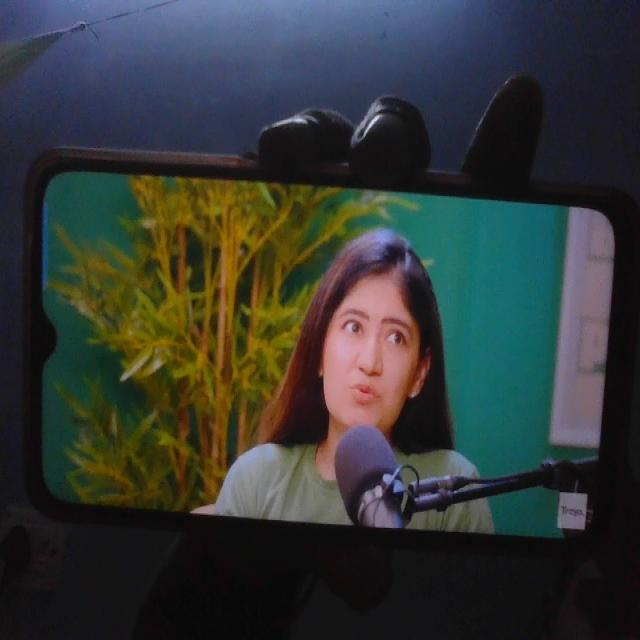fake: (313, 227, 424, 437)
